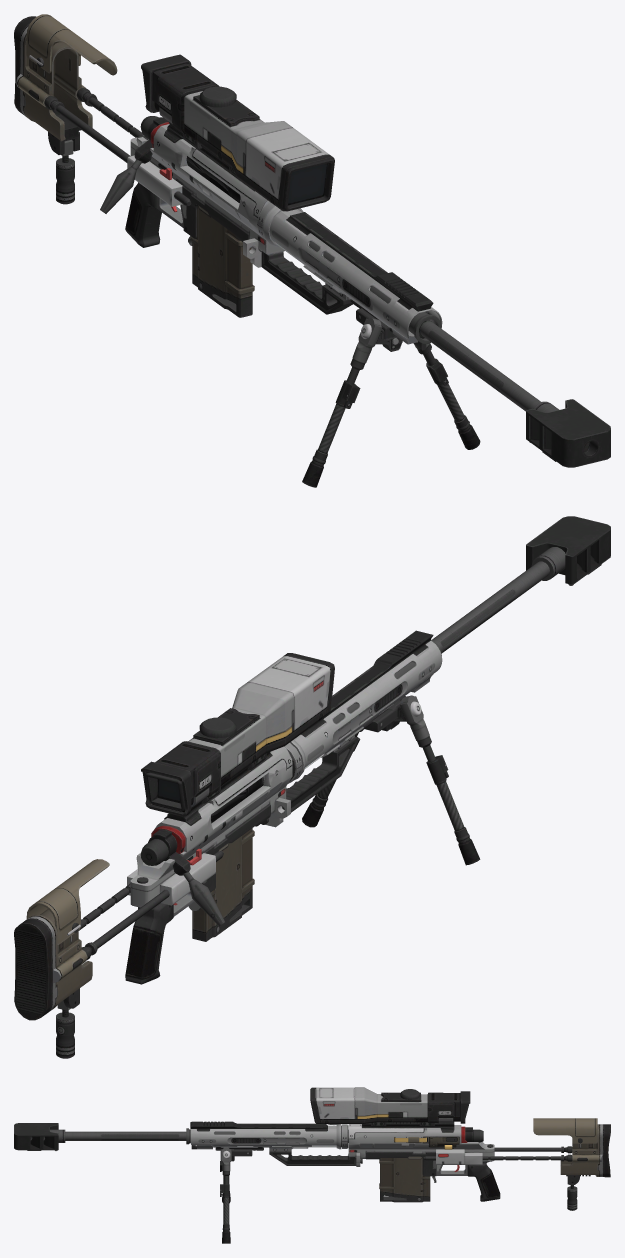
File: raw.glb
3 views of the same model, one above another, from view 1: azimuth 30°, elevation 25°; view 2: azimuth 150°, elevation 25°; view 3: azimuth 270°, elevation 25° (orthographic). The views are drawn at different scales.
Visible parts, largest first — view 1: cheyanne_ssr_LOD0; view 2: cheyanne_ssr_LOD0; view 3: cheyanne_ssr_LOD0.
Boxes of the visible parts, x1=… form: cheyanne_ssr_LOD0: x1=14, y1=14, x2=610, y2=487; cheyanne_ssr_LOD0: x1=14, y1=516, x2=610, y2=1058; cheyanne_ssr_LOD0: x1=14, y1=1087, x2=610, y2=1243.
Size of the model in its own units: 0.2281 by 0.3072 by 1.26.
1 material, 1 textured.
